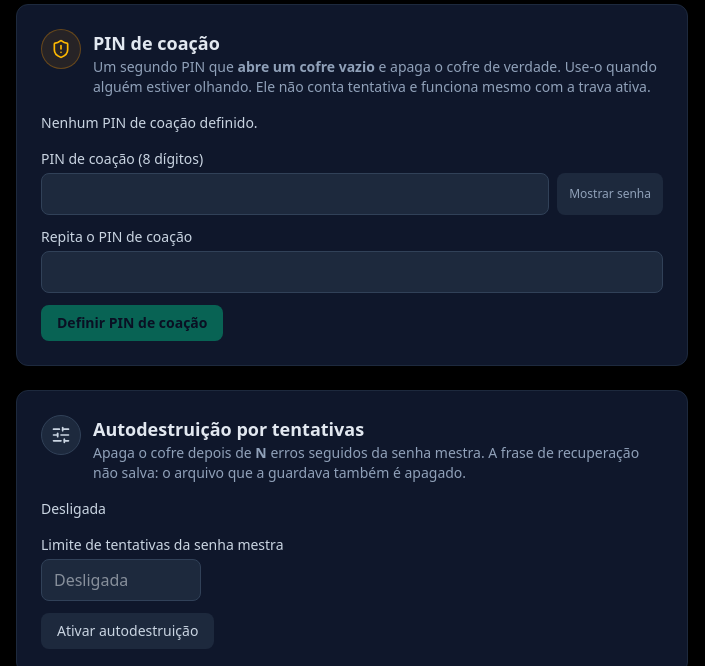
Configurações: autodestruição por tentativas › cancela a confirmação sem gravar nada
Click the button "Ativar autodestruição" at x=128, y=631, box [41,613,214,649]
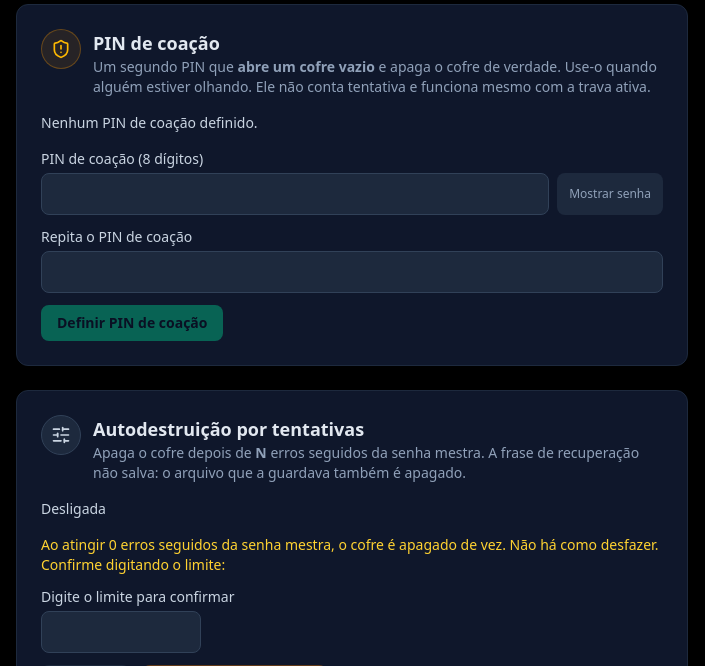
Type "60" into the field labelled "Digite o limite para confirmar" at x=121, y=632, box [41,611,201,653]
(page scrolled)
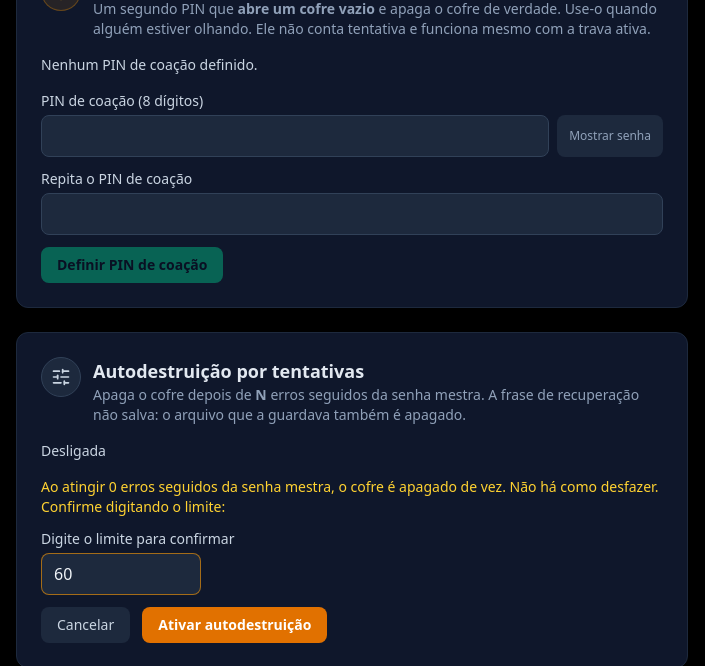
Click the button "Cancelar" at x=86, y=625, box [41,607,130,643]
(page scrolled)
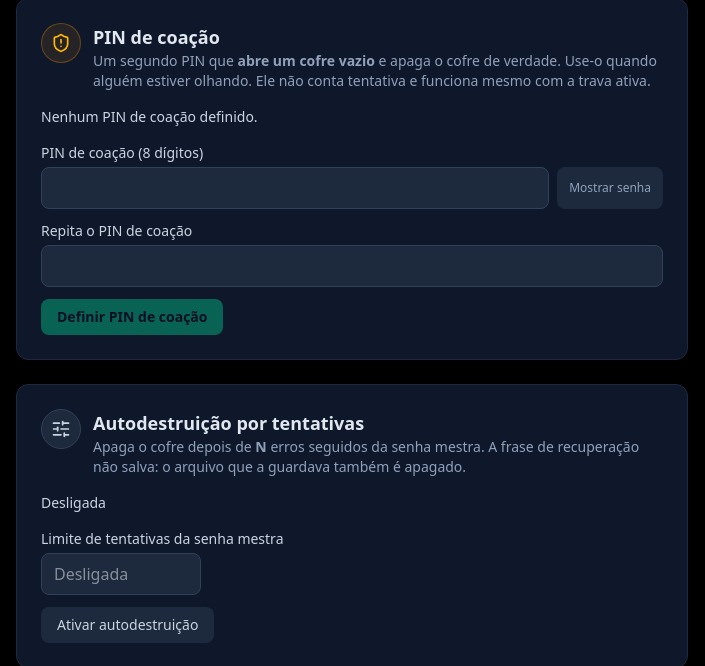
Now the text "Ao atingir" is gone
Now the field labelled "Limite de tentativas da senha mestra" is empty, box [41,553,201,595]
